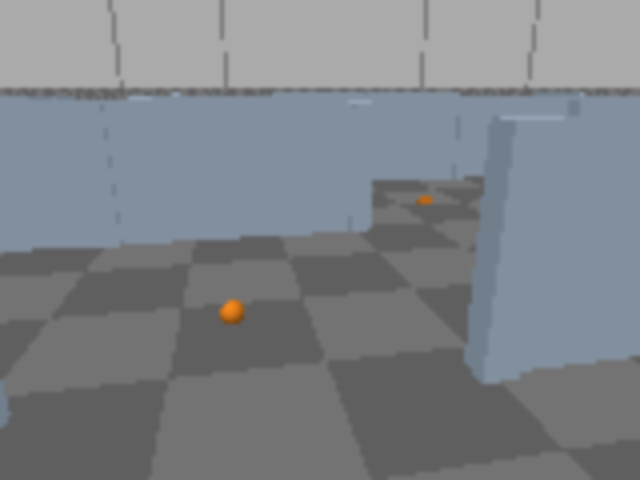puck: (219, 295, 247, 331)
